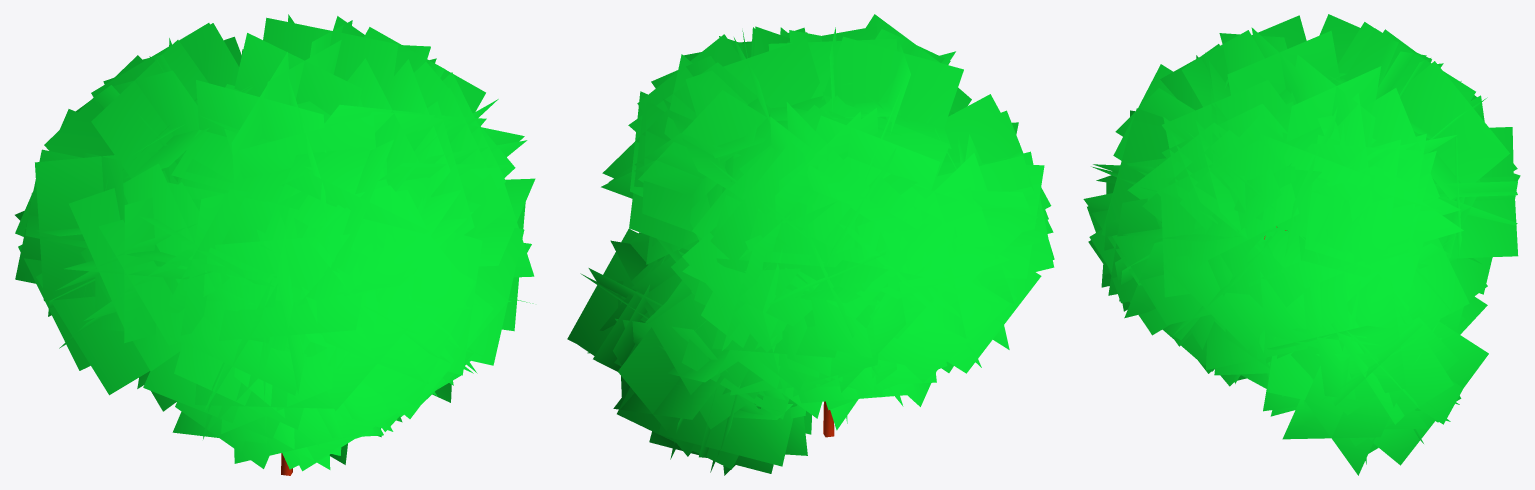
3 renders of one model, left to right at view 1: azimuth 30°, elevation 25°; view 2: azimuth 150°, elevation 25°; view 3: azimuth 270°, elevation 25°, orthographic. The views are drawn at different scales.
Parts seen in each view (by area): view 1: Leaves; view 2: Leaves; view 3: Leaves.
Part boxes in pixels (x1,y1,x2,y2): Leaves: (15, 14, 535, 471); Leaves: (567, 14, 1054, 475); Leaves: (1083, 14, 1520, 475).
Bounding box in the file's own units: 7.52 × 7.14 × 7.31.
